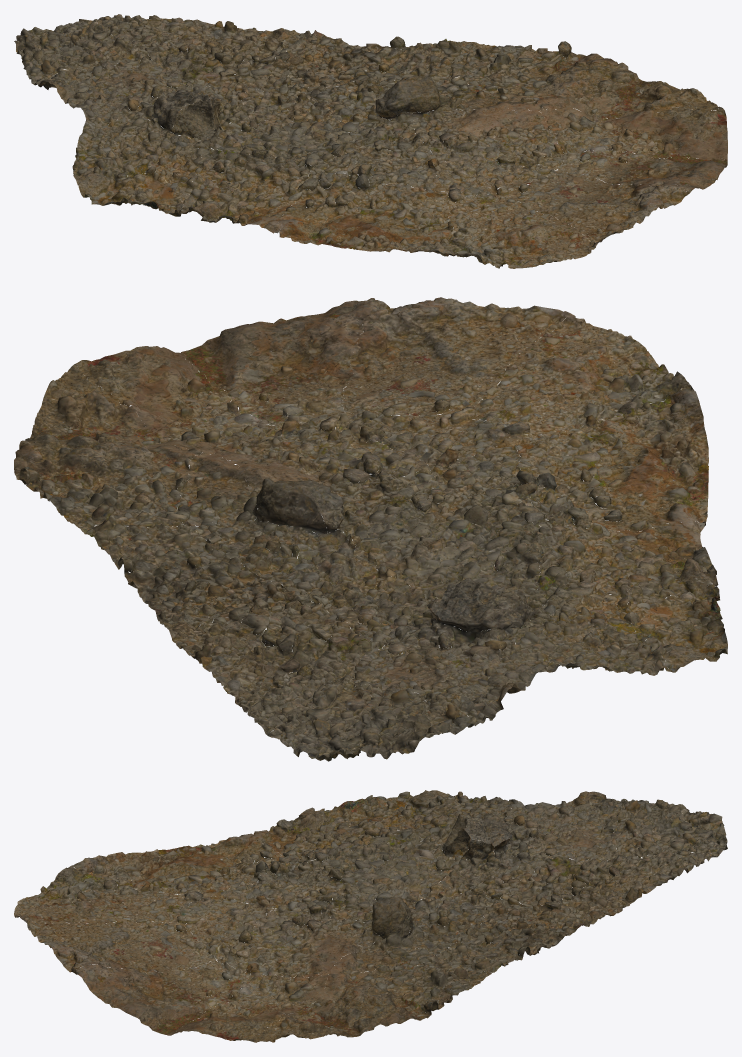
The model's file is coast_land_rocks_04.glb.
The picture shows the model from 3 angles, top to bottom: view 1: azimuth 30°, elevation 25°; view 2: azimuth 150°, elevation 25°; view 3: azimuth 270°, elevation 25°; orthographic projection. The views are drawn at different scales.
Parts seen in each view (by area): view 1: coast_land_rocks_04_LOD0; view 2: coast_land_rocks_04_LOD0; view 3: coast_land_rocks_04_LOD0.
Part boxes in pixels (x1,y1,x2,y2): coast_land_rocks_04_LOD0: (14, 14, 727, 268); coast_land_rocks_04_LOD0: (14, 297, 727, 761); coast_land_rocks_04_LOD0: (14, 790, 727, 1042).
Bounding box in the file's own units: 9.96 × 0.8429 × 11.5.
1 material, 1 textured.
